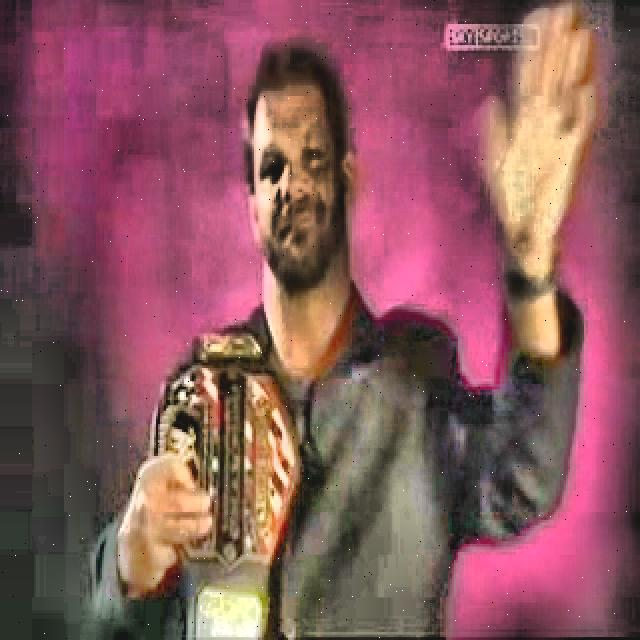L: (89, 29, 586, 638)
